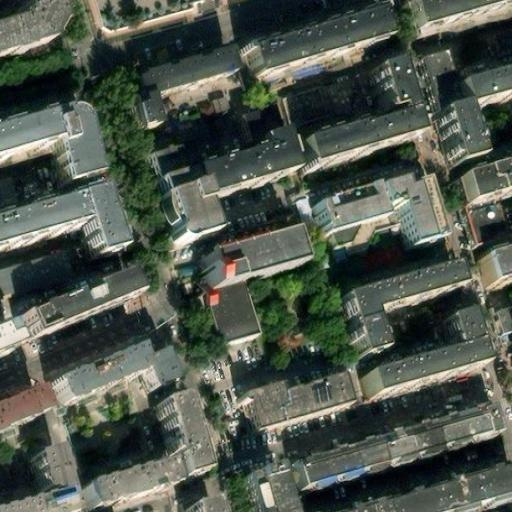building: (302, 72, 414, 170), (340, 269, 456, 354), (250, 11, 390, 79), (363, 332, 478, 409), (141, 46, 241, 125), (197, 120, 294, 201), (370, 400, 496, 462), (27, 270, 138, 334), (58, 341, 179, 399), (235, 382, 341, 434), (218, 223, 312, 278), (289, 433, 378, 485), (85, 448, 179, 497), (153, 396, 205, 477), (409, 0, 512, 39), (380, 178, 440, 244), (49, 100, 98, 174), (0, 251, 75, 299), (313, 186, 383, 235), (207, 279, 261, 342), (160, 189, 215, 249), (237, 459, 298, 512), (0, 0, 55, 57), (454, 157, 512, 201), (437, 102, 475, 161), (323, 218, 388, 252), (455, 68, 512, 106), (423, 50, 460, 108), (287, 85, 332, 128), (462, 194, 498, 245), (0, 391, 43, 432), (28, 452, 63, 502), (469, 248, 512, 288), (155, 172, 201, 201), (148, 150, 187, 183), (186, 493, 216, 512), (0, 175, 17, 202), (495, 303, 512, 329)
